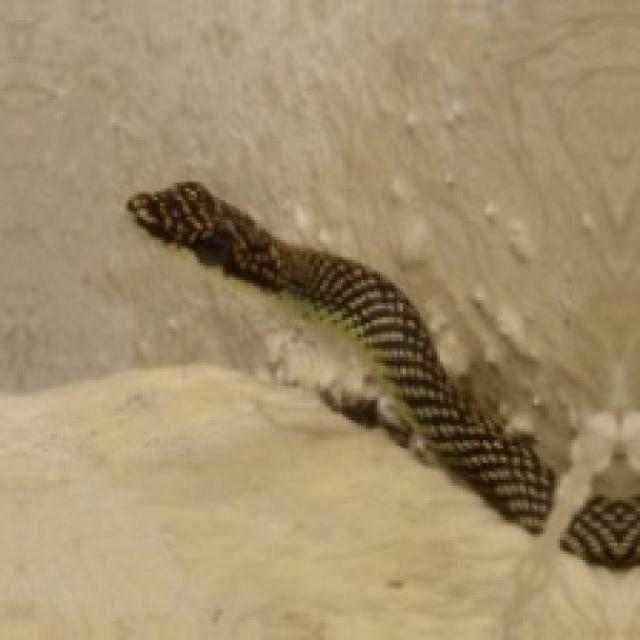paradise tree snake: (129, 183, 551, 531)
